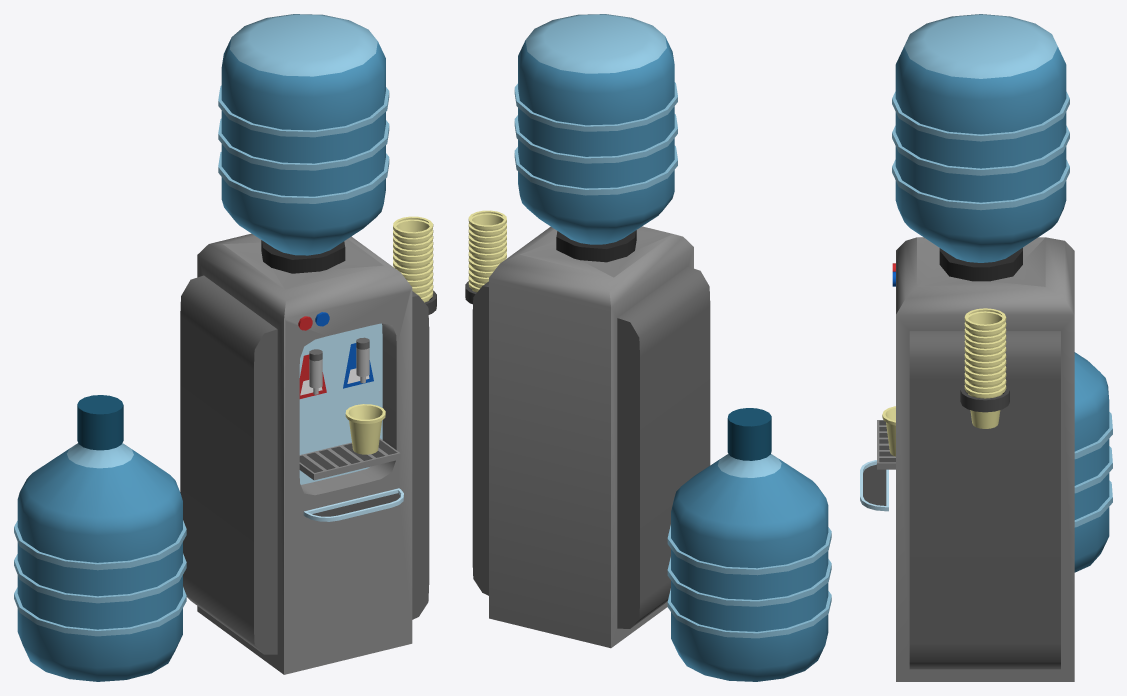
Rendered from d-moebel-komp-2.glb.
3 renders of one model, left to right at view 1: azimuth 30°, elevation 25°; view 2: azimuth 150°, elevation 25°; view 3: azimuth 270°, elevation 25°, orthographic. The views are drawn at different scales.
Parts seen in each view (by area): view 1: Cube.003; view 2: Cube.003; view 3: Cube.003.
Part boxes in pixels (<box>): Cube.003: <box>14,14,436,681</box>; Cube.003: <box>465,14,831,681</box>; Cube.003: <box>860,14,1112,681</box>.
Bounding box in the file's own units: 0.741 × 1.08 × 0.406.
1 material, 1 textured.
